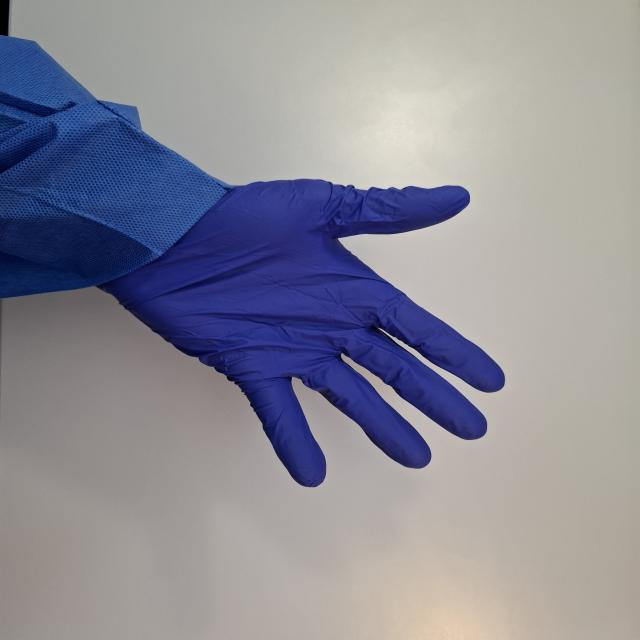glove_on: (97, 175, 508, 490)
